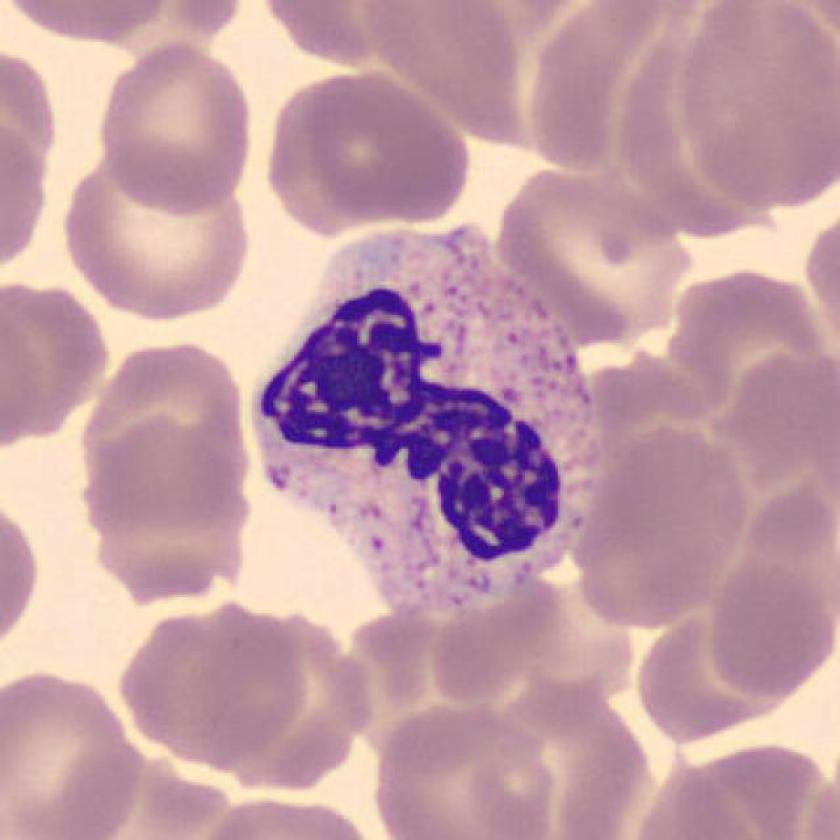neutrophil: (257, 235, 601, 614)
